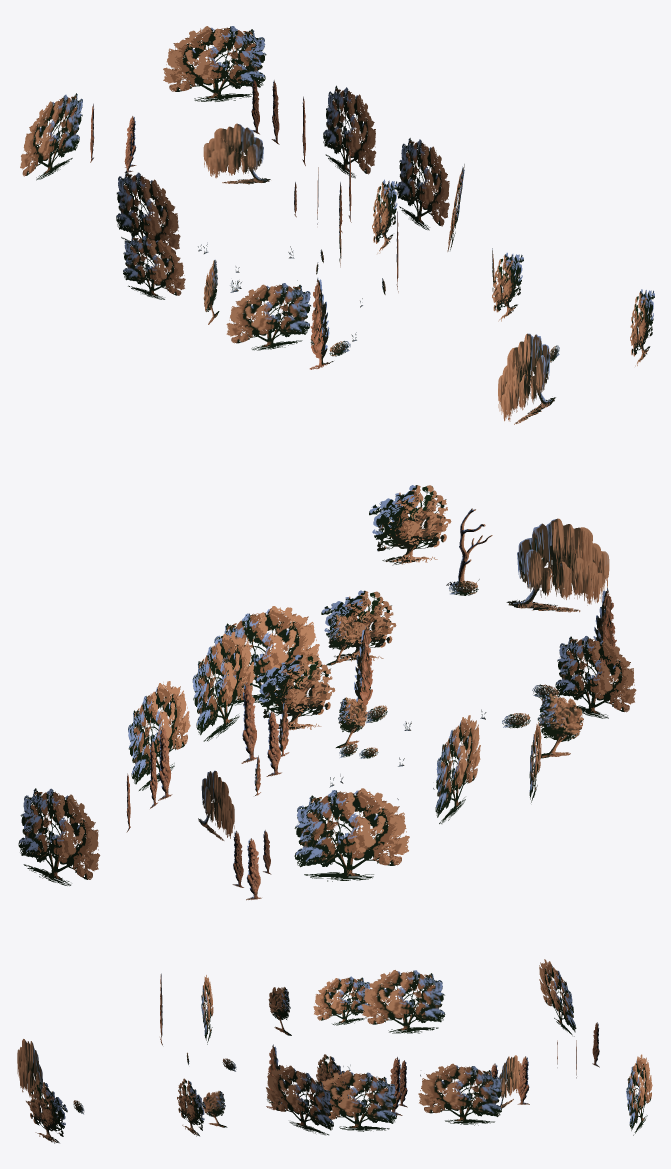
The picture shows the model from 3 angles, top to bottom: view 1: azimuth 30°, elevation 25°; view 2: azimuth 150°, elevation 25°; view 3: azimuth 270°, elevation 25°; orthographic projection. The views are drawn at different scales.
Visible parts, largest first — view 1: Trees; view 2: Trees; view 3: Trees.
Boxes of the visible parts, left/top/right/bottom form: Trees: left=20, top=26, right=654, bottom=424; Trees: left=18, top=485, right=636, bottom=900; Trees: left=17, top=959, right=652, bottom=1143.
Size of the model in its own units: 97.18 by 36.13 by 199.
Materials: 1 (1 with a texture image).
